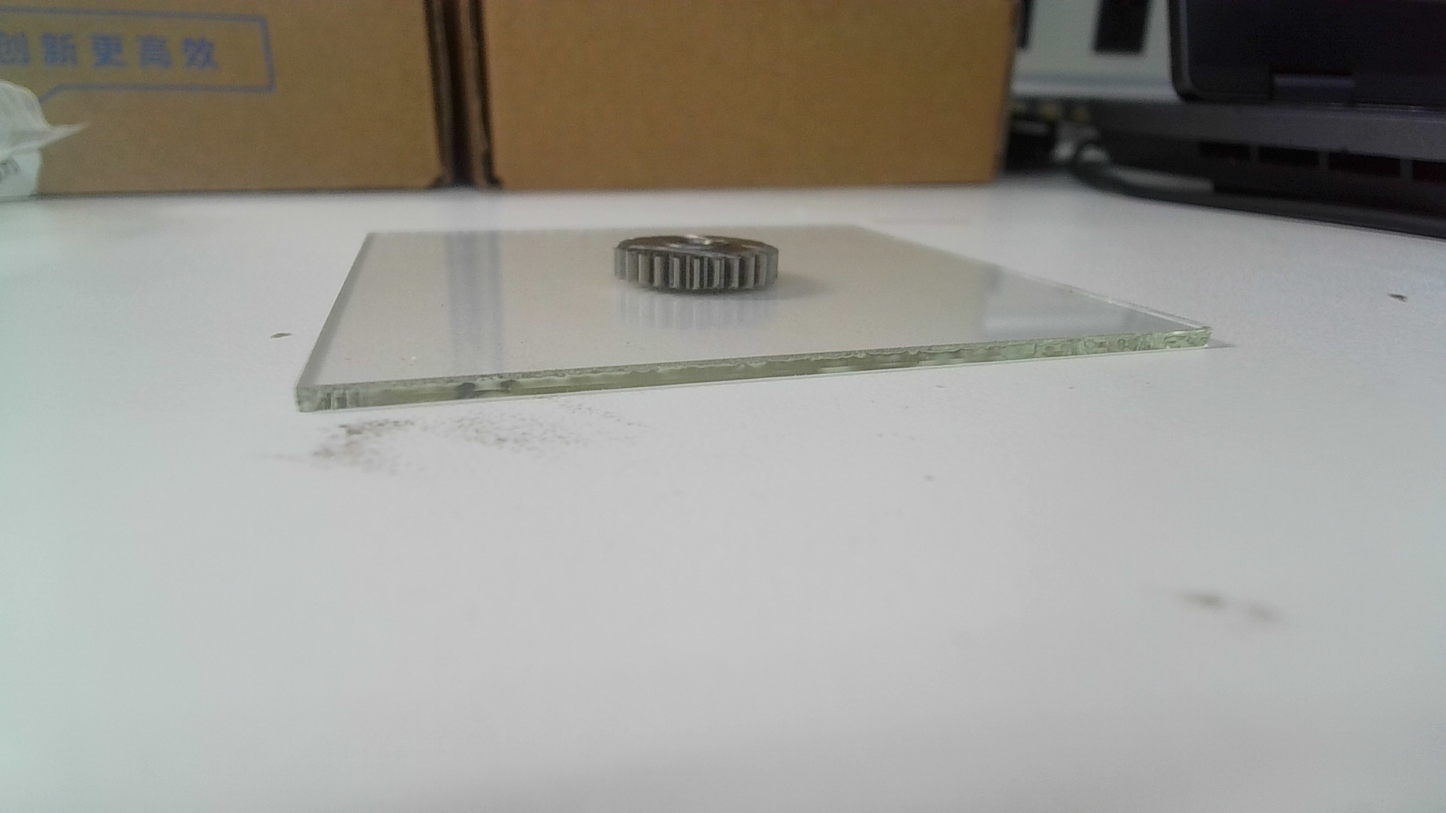gear: (611, 231, 782, 299)
